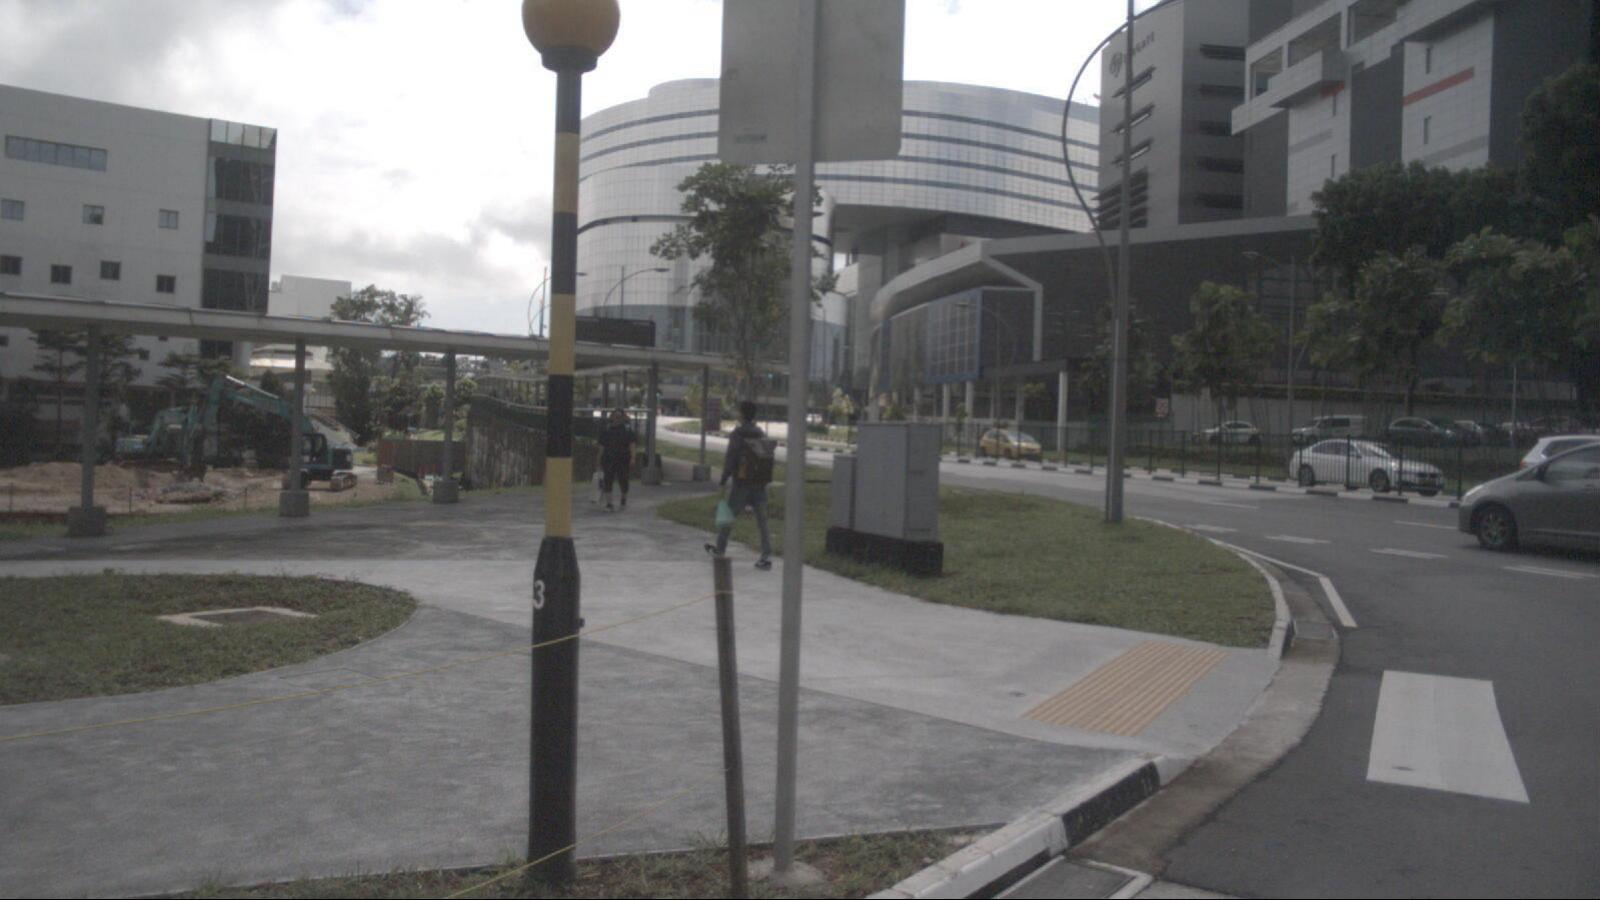human.pedestrian.adult-pedestrian.moving: (704, 399, 778, 571), (588, 408, 639, 514)
